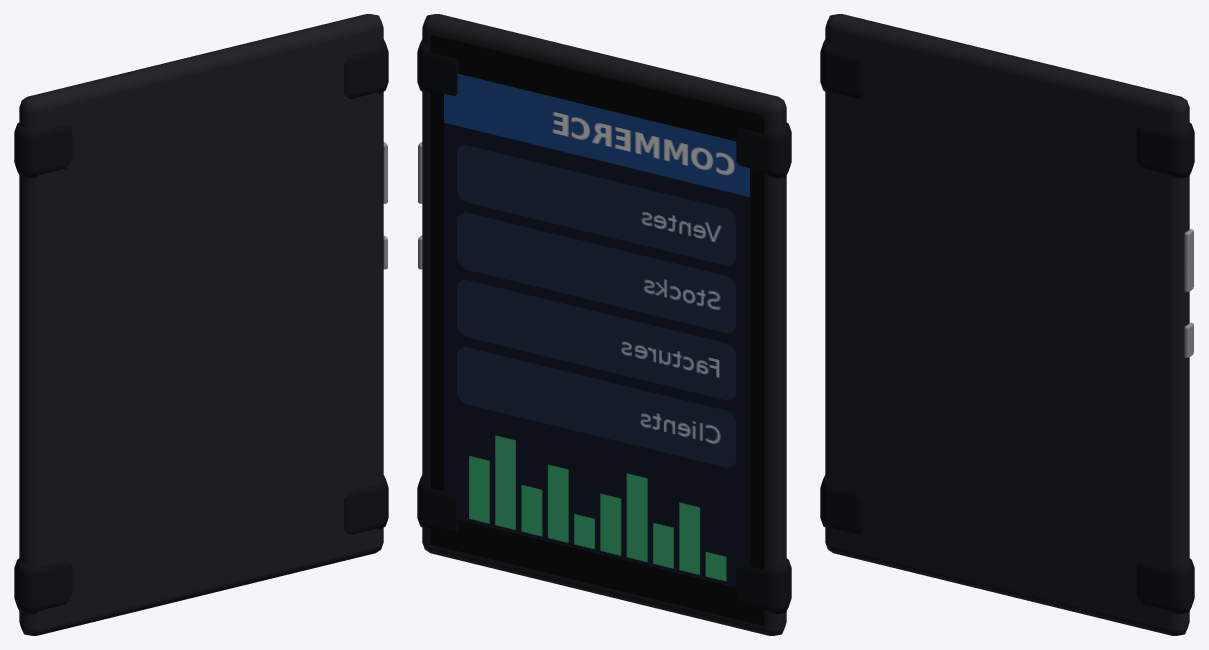
The model's file is BusinessTablet.obj.
3 renders of one model, left to right at view 1: azimuth 30°, elevation 25°; view 2: azimuth 150°, elevation 25°; view 3: azimuth 330°, elevation 25°, orthographic.
Bounding box in the file's own units: 0.195 × 0.271 × 0.0148.
